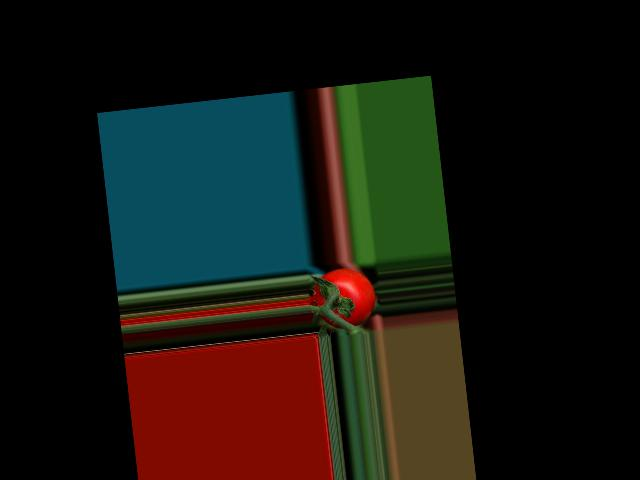tomato: (307, 265, 378, 331)
